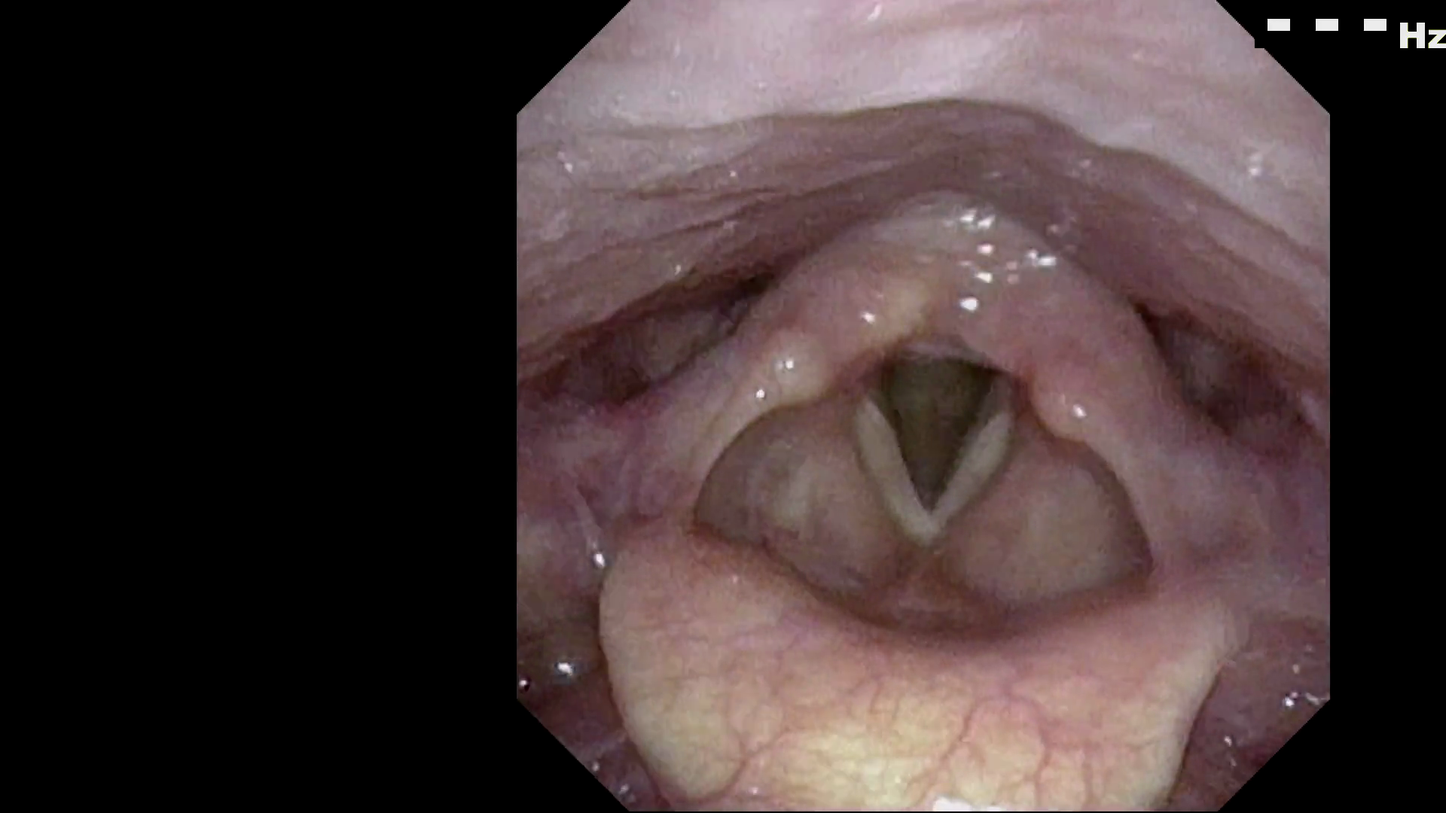epiglottis: (590, 525, 1213, 762)
trachea: (846, 332, 1025, 557)
